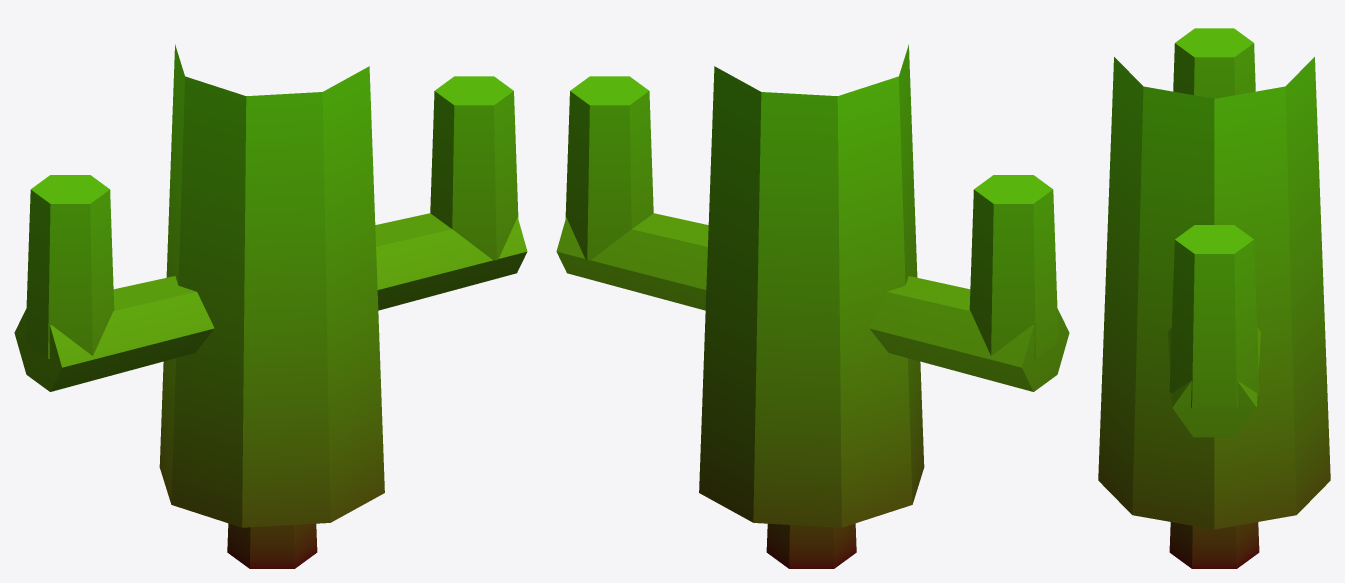
Rendered from specific_desert_succulent.glb.
3 renders of one model, left to right at view 1: azimuth 30°, elevation 25°; view 2: azimuth 150°, elevation 25°; view 3: azimuth 270°, elevation 25°, orthographic.
Visible parts, largest first — view 1: specific_columnar_cactus; view 2: specific_columnar_cactus; view 3: specific_columnar_cactus.
Boxes of the visible parts, left/top/right/bottom form: specific_columnar_cactus: left=14, top=44, right=527, bottom=568; specific_columnar_cactus: left=556, top=44, right=1069, bottom=568; specific_columnar_cactus: left=1098, top=28, right=1330, bottom=568.
Size of the model in its own units: 0.9918 by 1 by 0.4248.
